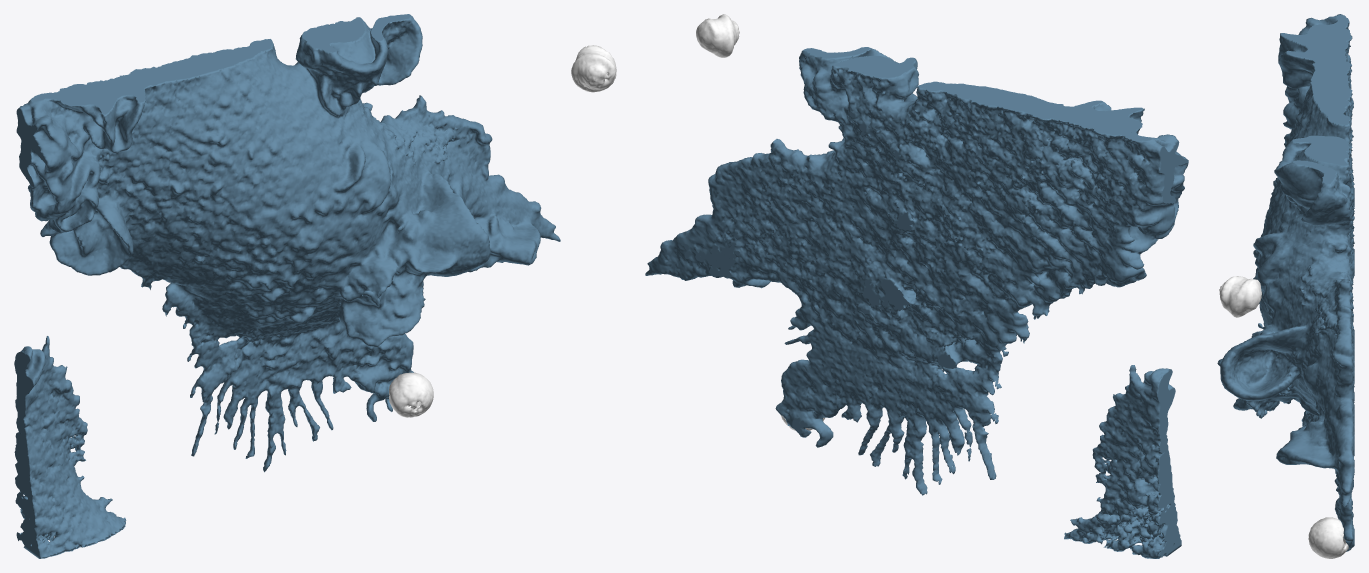
The picture shows the model from 3 angles, left to right: view 1: azimuth 30°, elevation 25°; view 2: azimuth 150°, elevation 25°; view 3: azimuth 270°, elevation 25°; orthographic projection. The views are drawn at different scales.
Visible parts, largest first — view 1: surface (×2); view 2: surface (×2); view 3: surface (×2).
Boxes of the visible parts, bbox=[...] form: surface (×2): bbox=[14, 14, 616, 558]; surface (×2): bbox=[645, 14, 1188, 558]; surface (×2): bbox=[1217, 14, 1354, 558].
Size of the model in its own units: 563 by 436 by 133.
